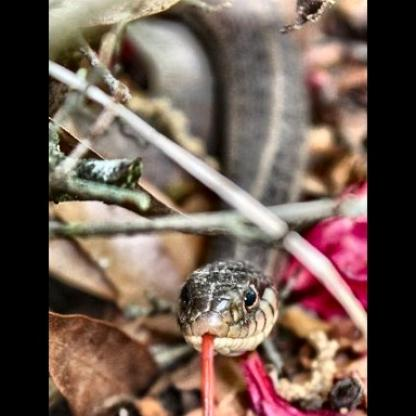Snake: (171, 149, 299, 359)
